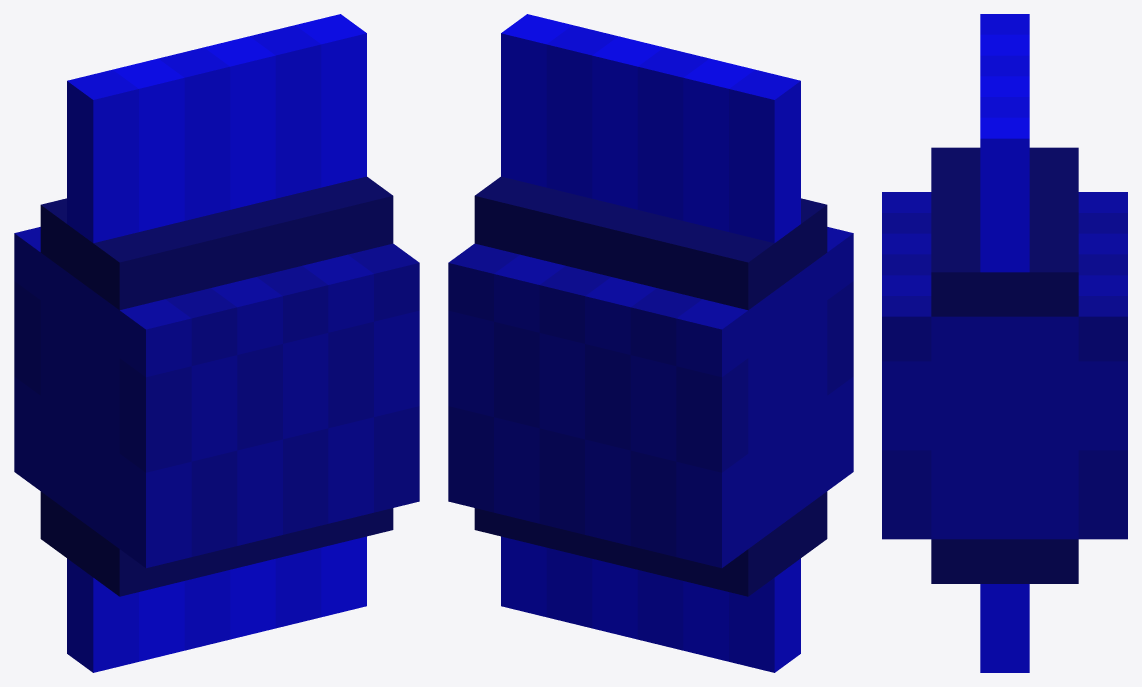
The model's file is Anguila-2.obj.
3 renders of one model, left to right at view 1: azimuth 30°, elevation 25°; view 2: azimuth 150°, elevation 25°; view 3: azimuth 270°, elevation 25°, orthographic. The views are drawn at different scales.
Bounding box in the file's own units: 0.6 × 1.2 × 0.5.
Materials: 1 (1 with a texture image).
